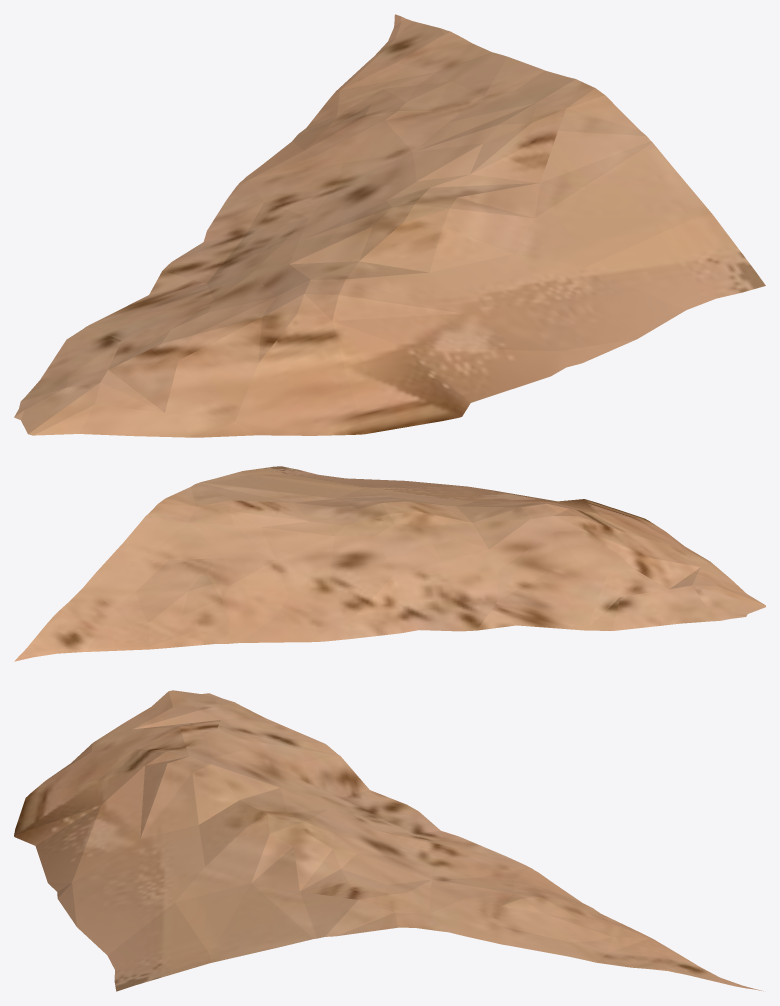
3 renders of one model, top to bottom at view 1: azimuth 30°, elevation 25°; view 2: azimuth 150°, elevation 25°; view 3: azimuth 270°, elevation 25°, orthographic. The views are drawn at different scales.
Bounding box in the file's own units: 0.6417 × 0.0634 × 0.6766.
Materials: 1 (1 with a texture image).
